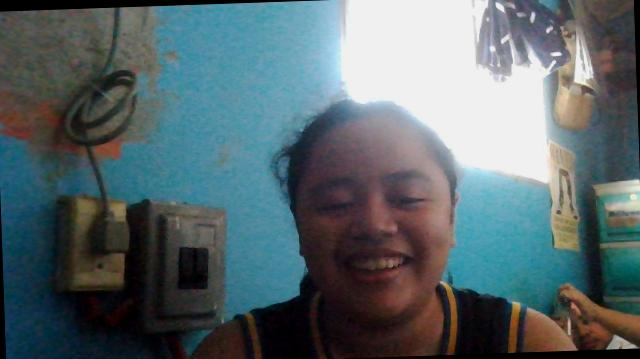senang: (288, 119, 462, 335)
